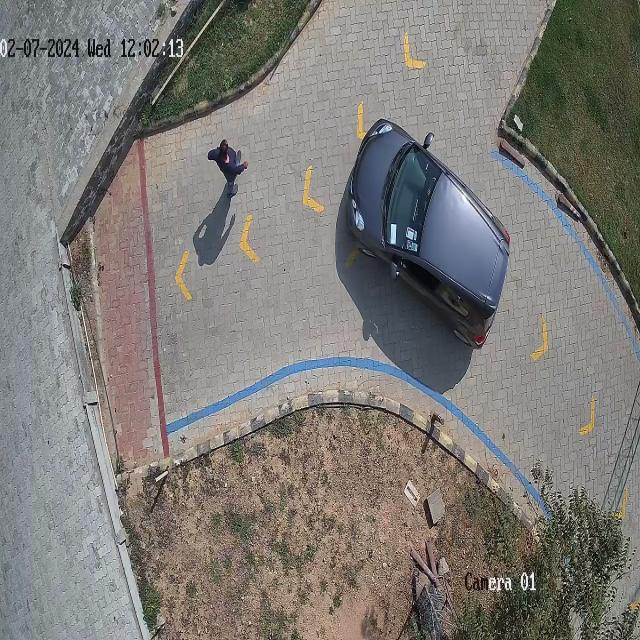car: (346, 120, 510, 349)
